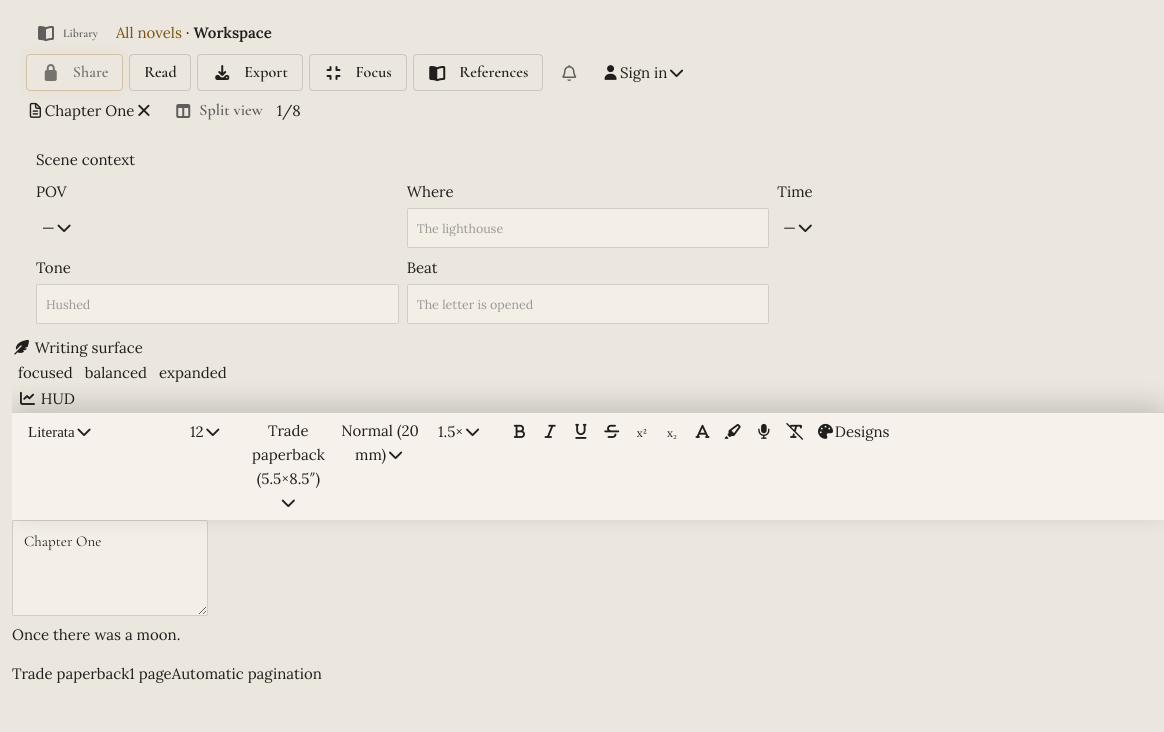
Test case: Novel workspace › opens the Designs palette and lists premade packs
What coordinates should you click on to do the following:
click the button "Designs"
I would click on:
 (853, 432)
Its box is x1=810 y1=418 x2=896 y2=446.
(page scrolled)
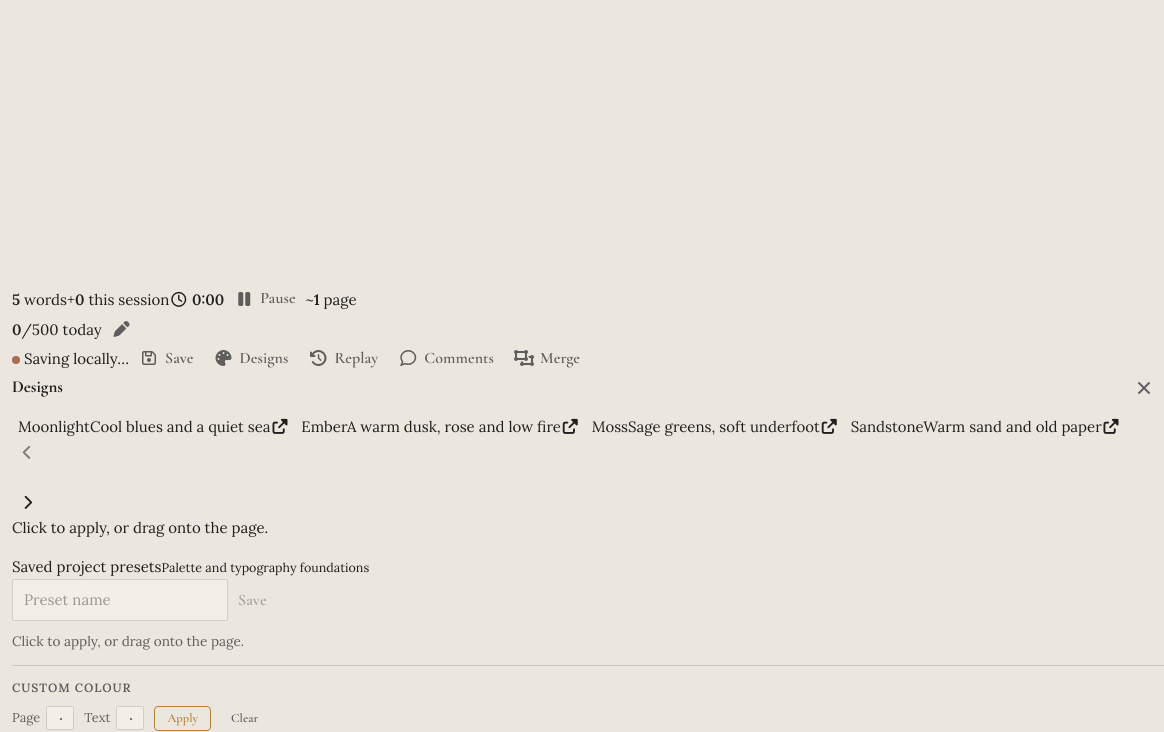
Now the button with class "design-card" that starts with "Moonlight" is shown, box x1=12 y1=414 x2=295 y2=440
Now the text "Click to apply, or drag onto the page." is shown, box x1=12 y1=518 x2=268 y2=537
